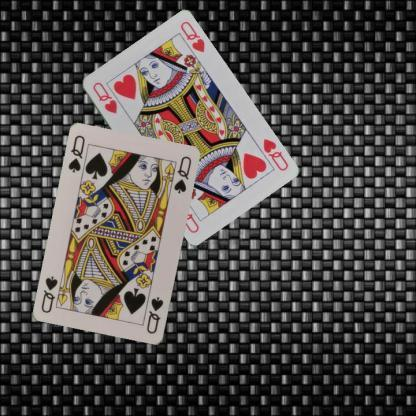Qh: (260, 136, 289, 172), (90, 79, 118, 115)
Qs: (144, 294, 166, 336), (66, 132, 87, 174)
